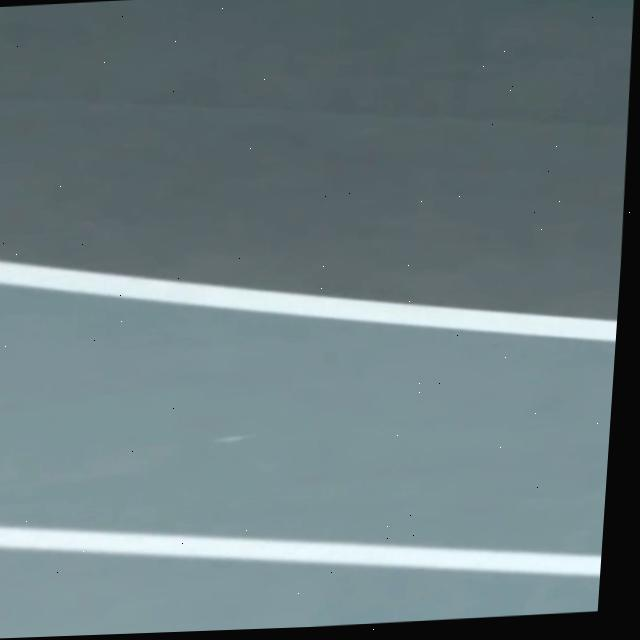left: (0, 261, 617, 341)
